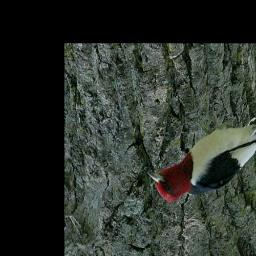Woodpecker: (141, 94, 256, 210)
